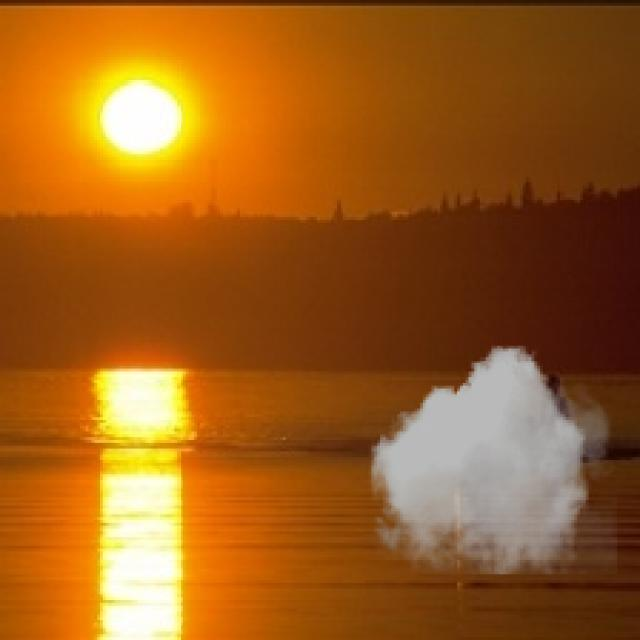smoke: (366, 346, 617, 574)
